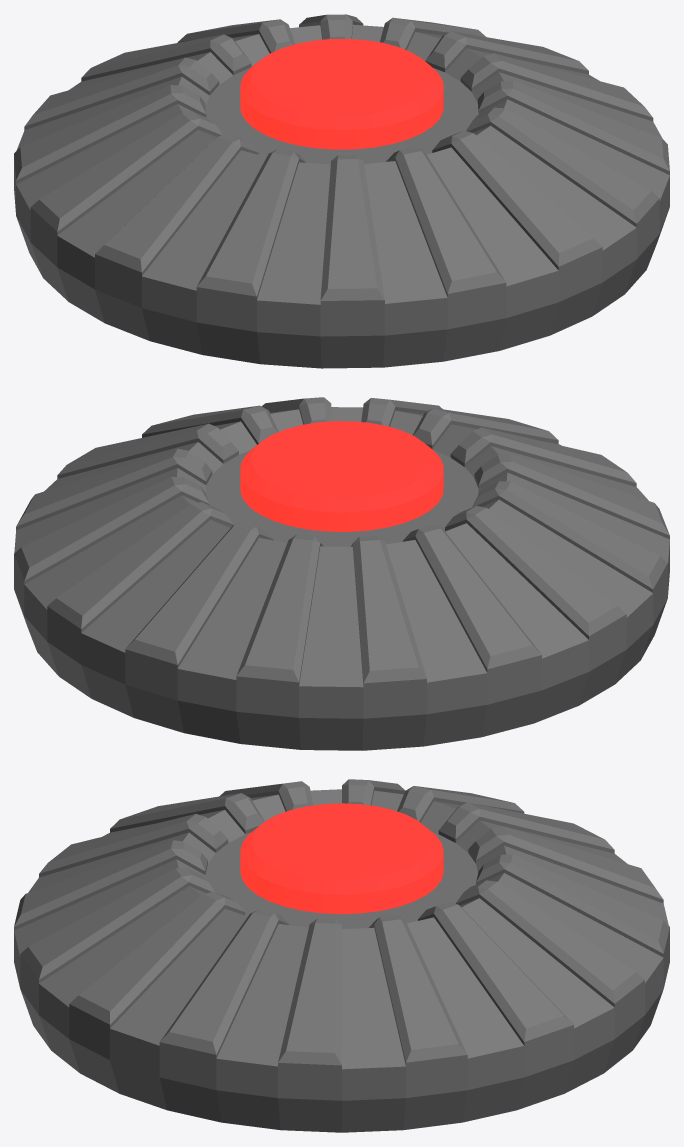
The model's file is landmine.fbx.
3 renders of one model, top to bottom at view 1: azimuth 30°, elevation 25°; view 2: azimuth 150°, elevation 25°; view 3: azimuth 270°, elevation 25°, orthographic.
Parts seen in each view (by area): view 1: Base, Button; view 2: Base, Button; view 3: Base, Button.
Boxes of the visible parts, x1,y1,x2,y2 form: Base: (14,14,669,368); Button: (240,38,443,149); Base: (14,397,669,750); Button: (240,421,443,531); Base: (14,779,669,1132); Button: (240,803,443,914).
Size of the model in its own units: 186 by 49.32 by 186.
